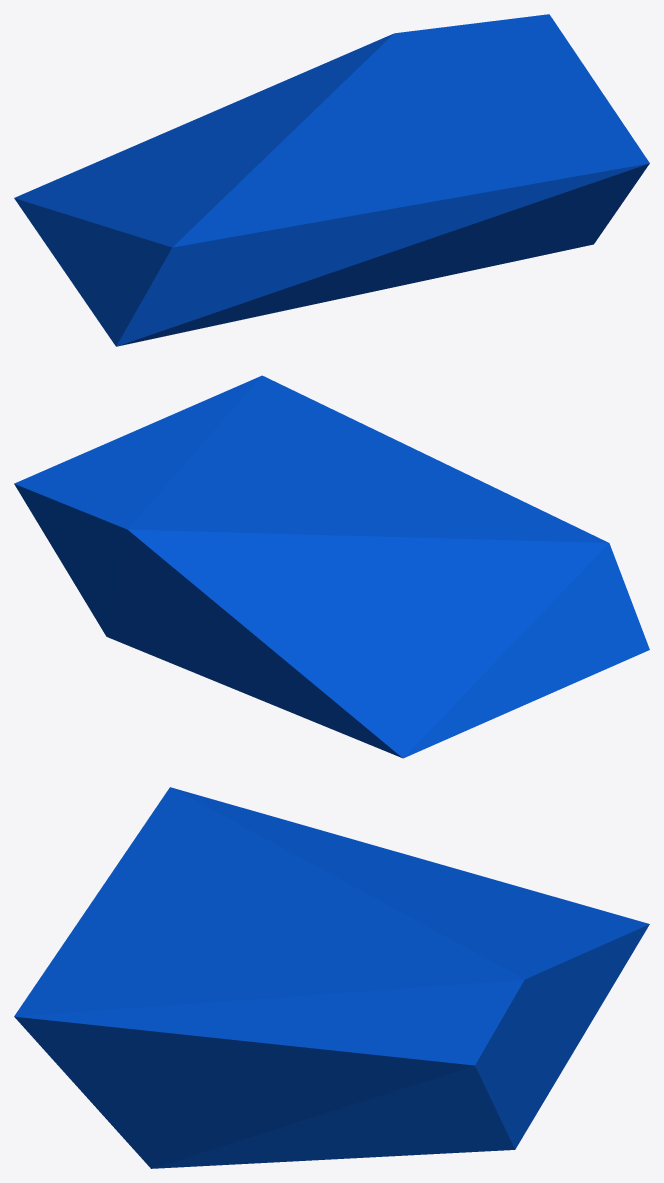
File: coffee_convex_piece_014.obj
3 views of the same model, one above another, from view 1: azimuth 30°, elevation 25°; view 2: azimuth 150°, elevation 25°; view 3: azimuth 270°, elevation 25° (orthographic). The views are drawn at different scales.
Bounding box in the file's own units: 0.000344 × 7.2e-05 × 0.000269.
